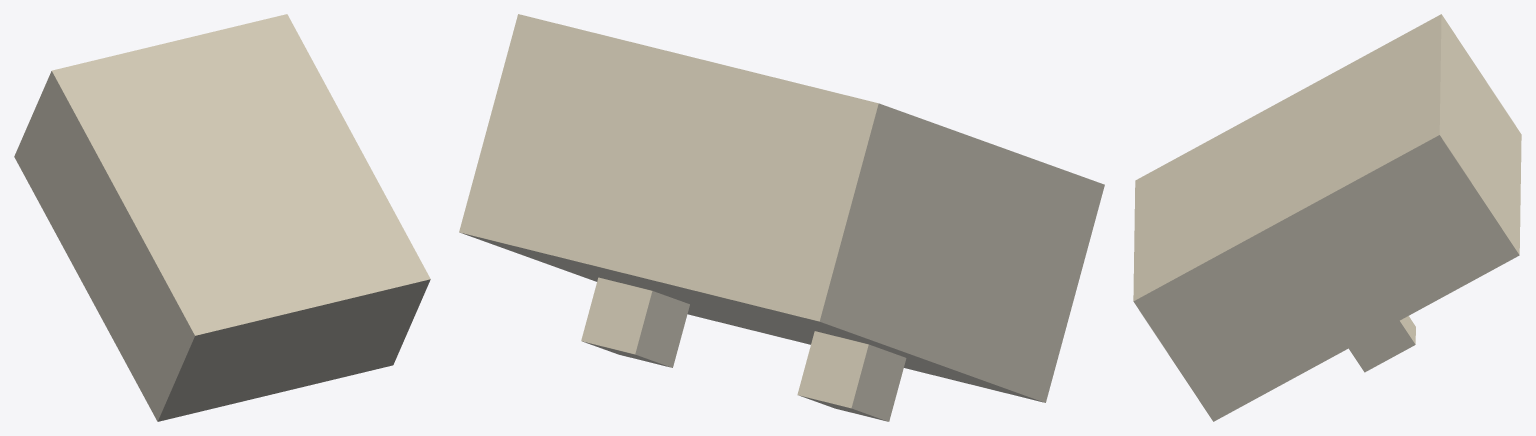
File: BRAT_M4_SHOULDER_R_2_2.glb
The picture shows the model from 3 angles, left to right: view 1: azimuth 30°, elevation 25°; view 2: azimuth 150°, elevation 25°; view 3: azimuth 270°, elevation 25°; orthographic projection. The views are drawn at different scales.
Parts seen in each view (by area): view 1: BRAT_M4_SHOULDER_R_2_2.001; view 2: BRAT_M4_SHOULDER_R_2_2.001; view 3: BRAT_M4_SHOULDER_R_2_2.001.
Boxes of the visible parts, x1,y1,x2,y2 form: BRAT_M4_SHOULDER_R_2_2.001: (14, 14, 430, 421); BRAT_M4_SHOULDER_R_2_2.001: (459, 14, 1104, 421); BRAT_M4_SHOULDER_R_2_2.001: (1133, 14, 1521, 421).
Bounding box in the file's own units: 0.2421 × 0.2663 × 0.3256.
